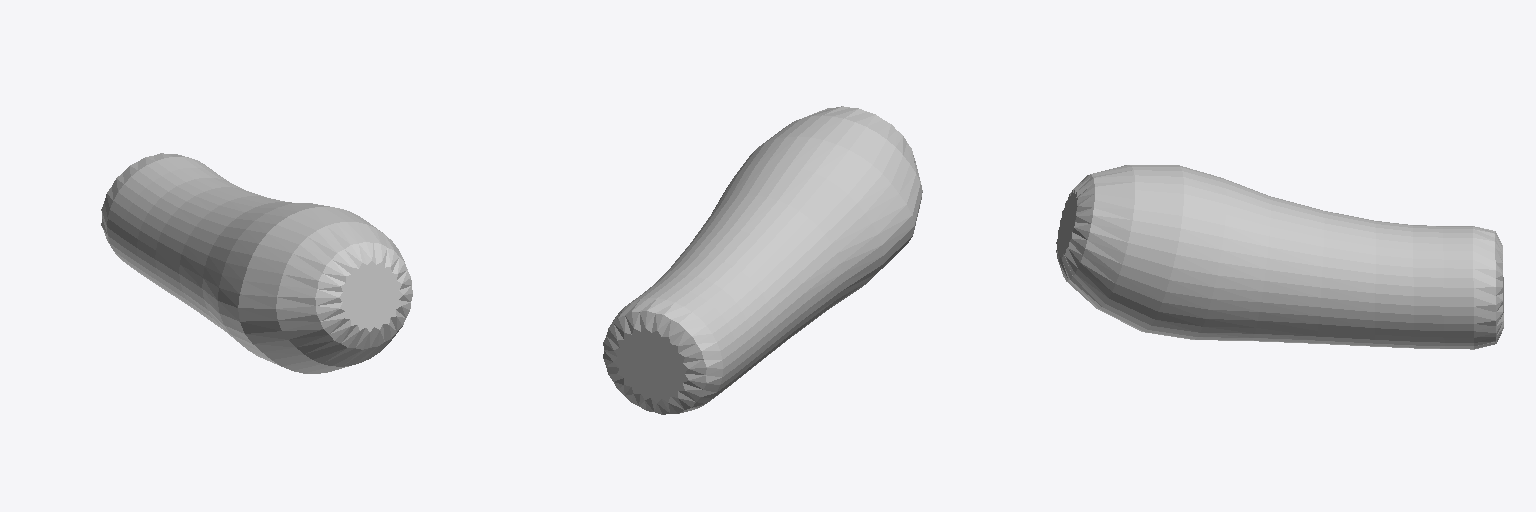
Rendered from nose.obj.
3 views of the same model, side by side, from view 1: azimuth 30°, elevation 25°; view 2: azimuth 150°, elevation 25°; view 3: azimuth 270°, elevation 25° (orthographic).
Visible parts, largest first — view 1: nose; view 2: nose; view 3: nose.
Part boxes in pixels (bbox=[...]): nose: bbox=[101, 153, 412, 373]; nose: bbox=[603, 106, 922, 414]; nose: bbox=[1056, 165, 1503, 349].
Size of the model in its own units: 0.9712 by 0.9624 by 2.31.